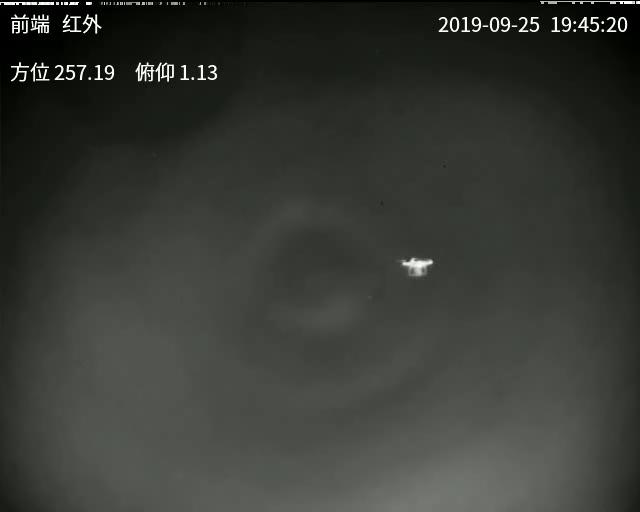uav: (397, 251, 434, 279)
